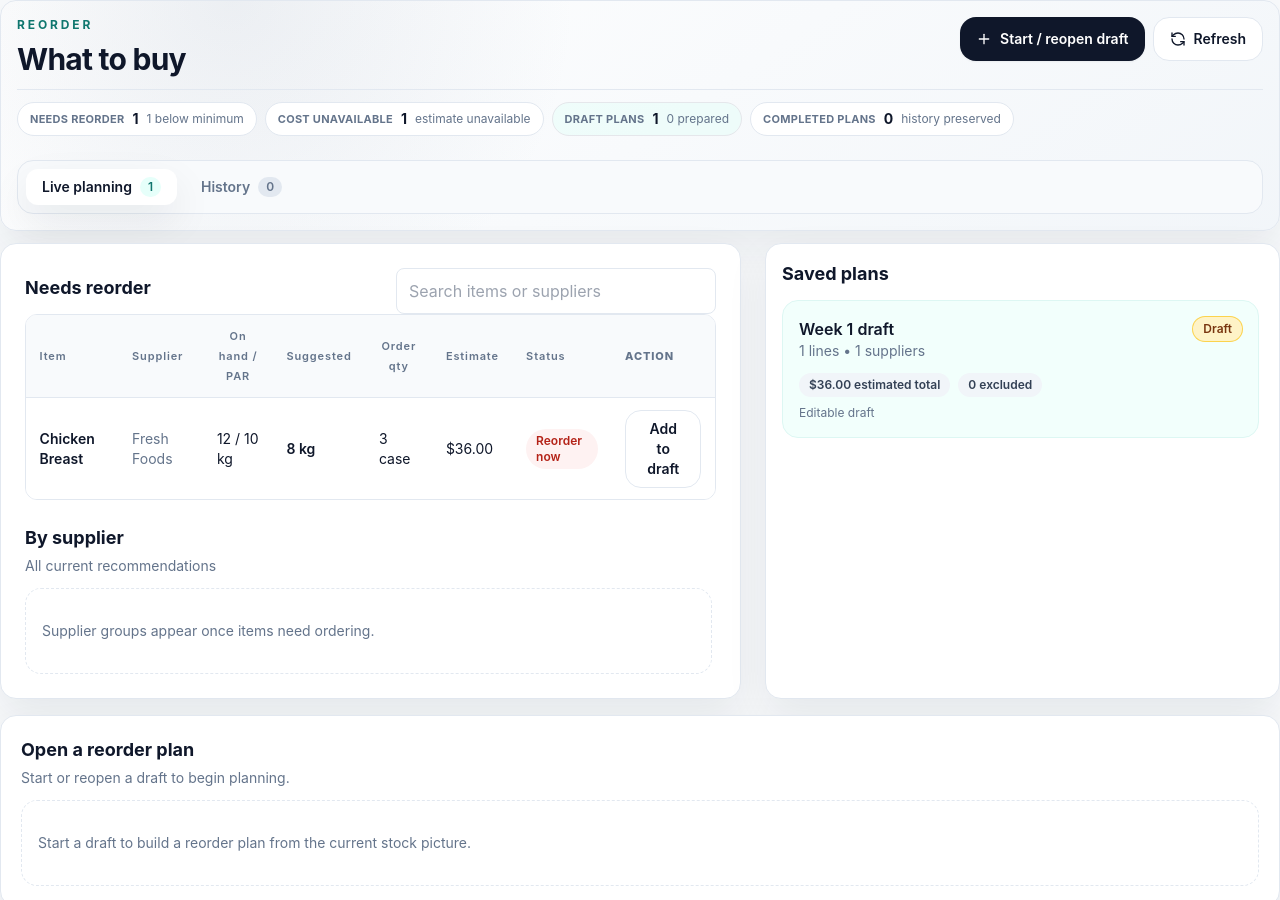
Scenario: PilotReorderPlanPage › keeps unknown prices and changed conversions in manual review
Click the button "Week 1 draft" at (847, 329), box [782,300,1259,438]
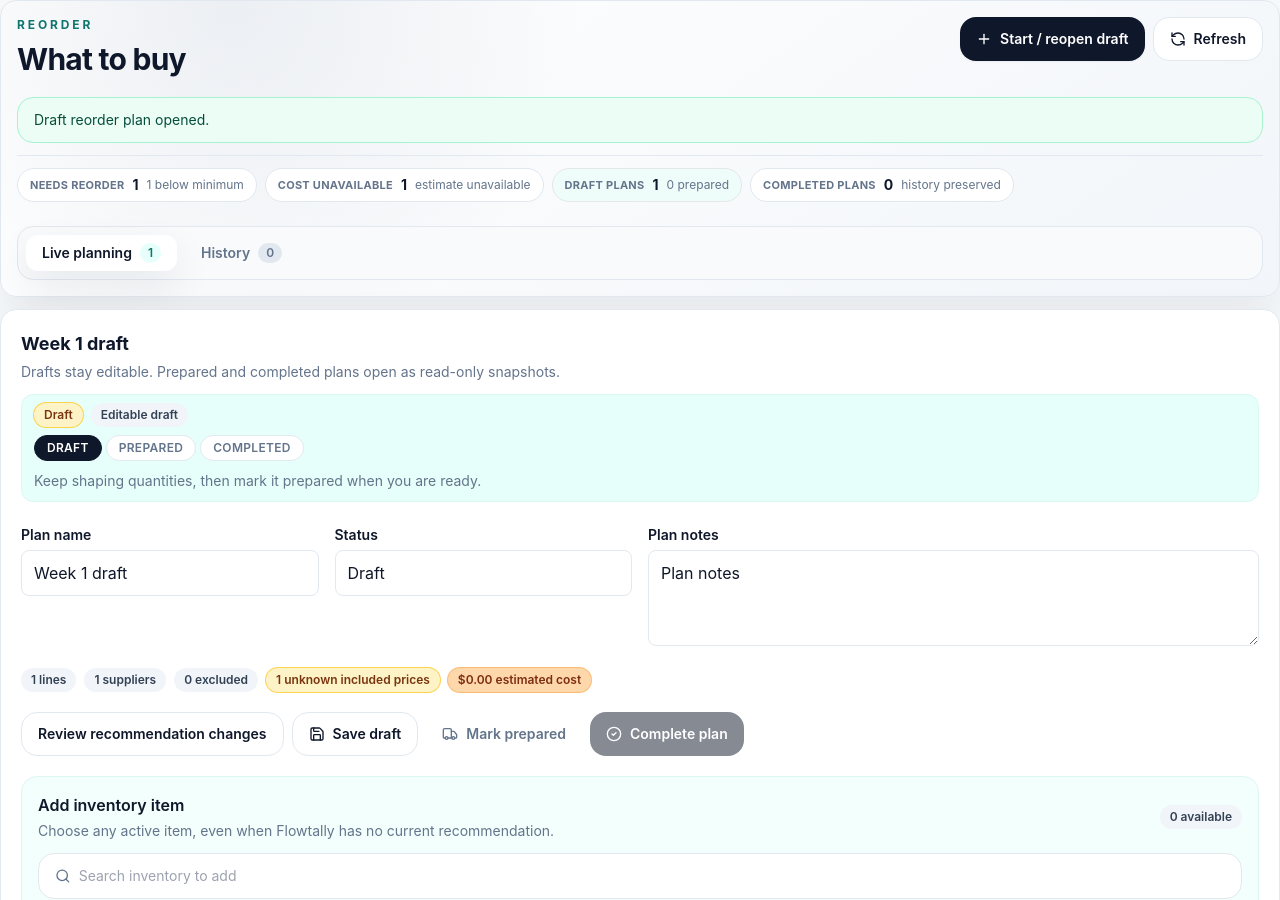
Expected: the text "Draft reorder plan opened." is shown, [17,97,1263,143]
Click the button "Review recommendation changes" at (152, 734), box [21,712,284,756]
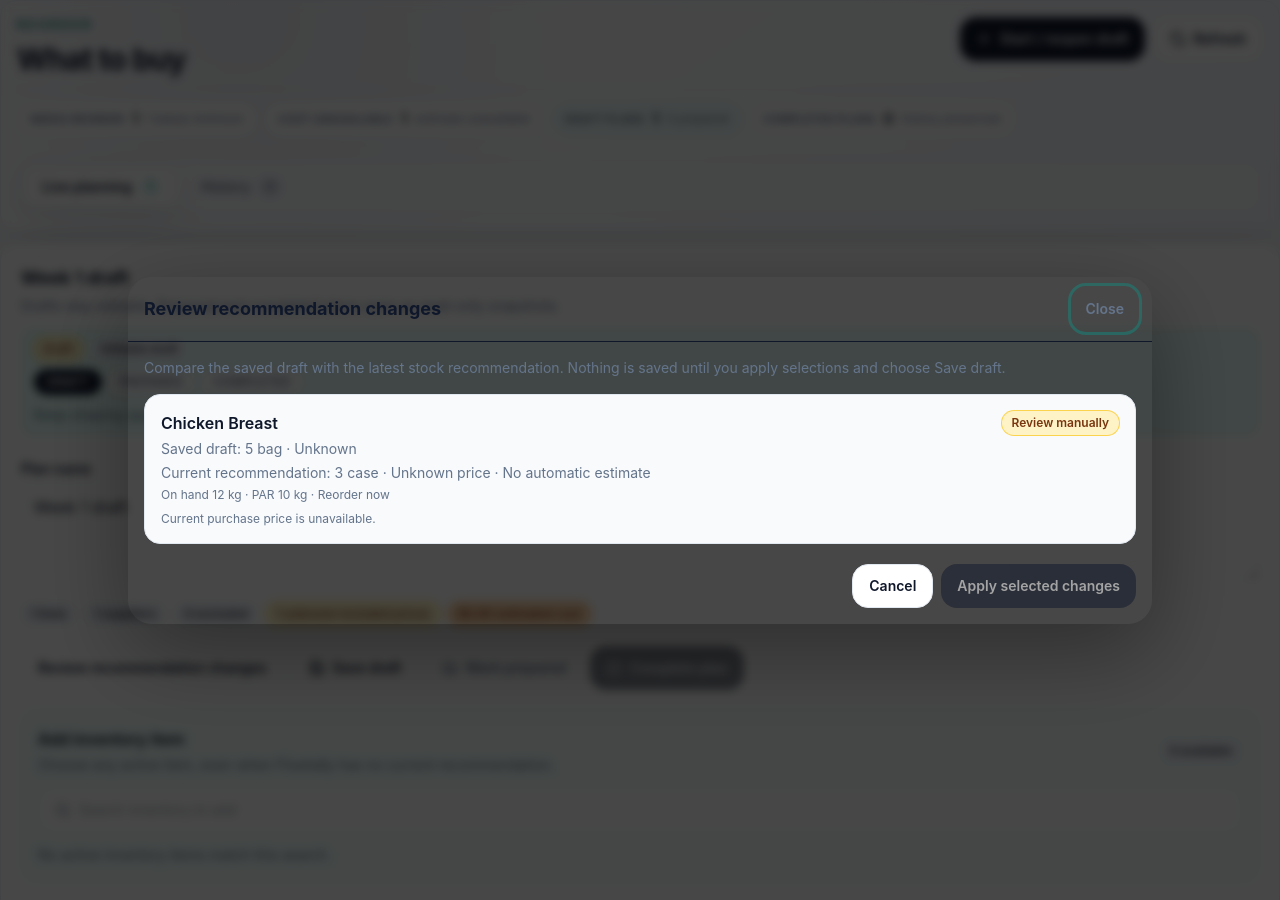
Expected: the dialog "Review recommendation changes" shows "Current purchase price is unavailable.", [161,510,376,526]
Expected: the dialog "Review recommendation changes" shows "Review manually", [1012,414,1109,430]
